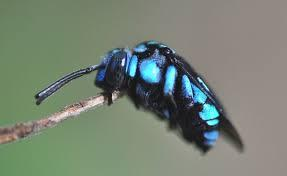Thyreus: (38, 35, 259, 160)
